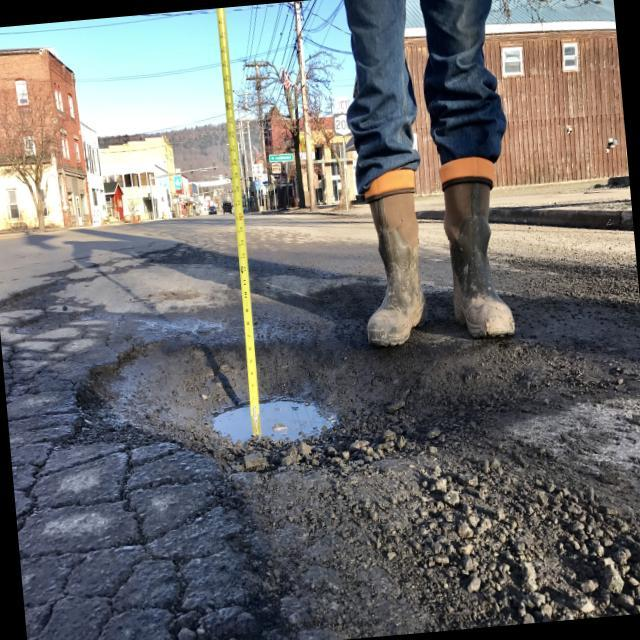Pothole: (69, 317, 365, 479)
